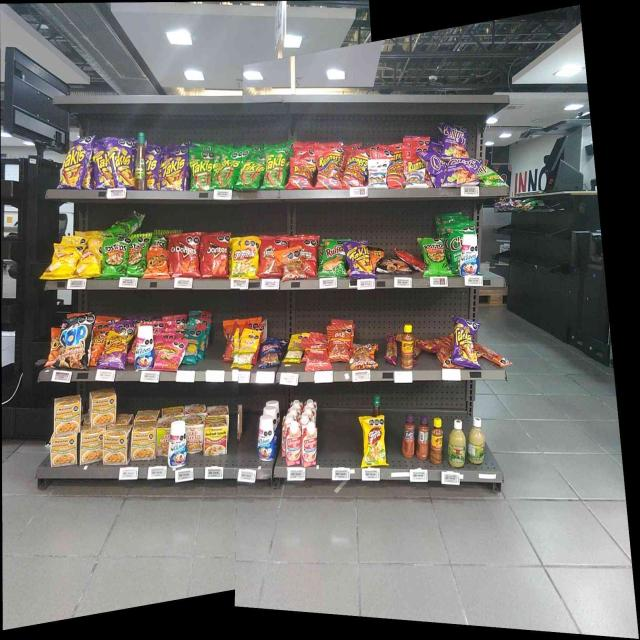bitzEnchilado90: (304, 340, 328, 370), (331, 325, 349, 361)
bitzEnchilado95: (482, 346, 513, 369)
bitzHabanero: (385, 332, 397, 366)
bokadosCacahuates: (260, 339, 278, 366)
botaneraChilito: (400, 324, 413, 368), (430, 418, 442, 465)
cheetosFlaminHot: (106, 330, 126, 369)
cheetosOriginal: (145, 250, 167, 280), (90, 328, 103, 368)
chipsFuego: (442, 127, 466, 161), (444, 164, 477, 186)
chipsPapatinas: (480, 166, 502, 186)
churrumais: (156, 340, 180, 370)
delPrimoSalsa: (468, 418, 485, 466), (448, 420, 465, 467)
doritosNacho: (170, 235, 200, 278), (202, 236, 228, 278)
fritosLimon: (231, 240, 257, 278), (364, 417, 384, 466)
leoCacahuates: (368, 159, 388, 189), (406, 172, 426, 187)
leoMix: (278, 249, 300, 279), (351, 344, 377, 368)
maruchanPollo: (54, 398, 80, 433), (91, 390, 116, 426), (104, 430, 129, 464), (132, 424, 154, 461), (50, 438, 76, 468), (80, 437, 102, 462)
maruchanRes: (206, 417, 226, 455)
nestleCarnation: (285, 422, 301, 465), (303, 422, 316, 465)
nestleLechera: (257, 415, 275, 462), (170, 420, 187, 468), (460, 234, 478, 276), (136, 329, 153, 369)
nissinCamaron: (158, 422, 168, 460)
nissinRes: (188, 416, 203, 452)
popKarameladas: (60, 319, 87, 370), (377, 258, 409, 274)
rancheritos: (260, 238, 276, 278), (303, 237, 317, 277)
rufflesQueso: (320, 241, 345, 278)
runners: (316, 150, 339, 187), (342, 152, 366, 187), (290, 157, 313, 189), (389, 148, 403, 188), (406, 156, 425, 169)
sabritasOriginal: (47, 243, 75, 278), (77, 240, 100, 278)
salsaBufalo: (136, 133, 145, 190)
semillasCalabaza: (233, 331, 256, 368), (284, 335, 302, 363)
semillasGirasol: (188, 327, 205, 365)
tajinDulce: (403, 416, 415, 458), (417, 416, 428, 460)
takisFuego: (452, 320, 478, 369), (64, 143, 86, 188), (113, 140, 132, 189), (163, 150, 186, 190), (91, 144, 111, 188), (347, 241, 371, 277), (148, 147, 161, 192)
takisOriginal: (189, 149, 211, 192), (213, 150, 237, 189), (266, 147, 286, 189), (240, 154, 262, 190)
tostitos: (101, 238, 127, 276), (420, 236, 444, 276), (129, 235, 143, 275), (448, 226, 458, 275)
